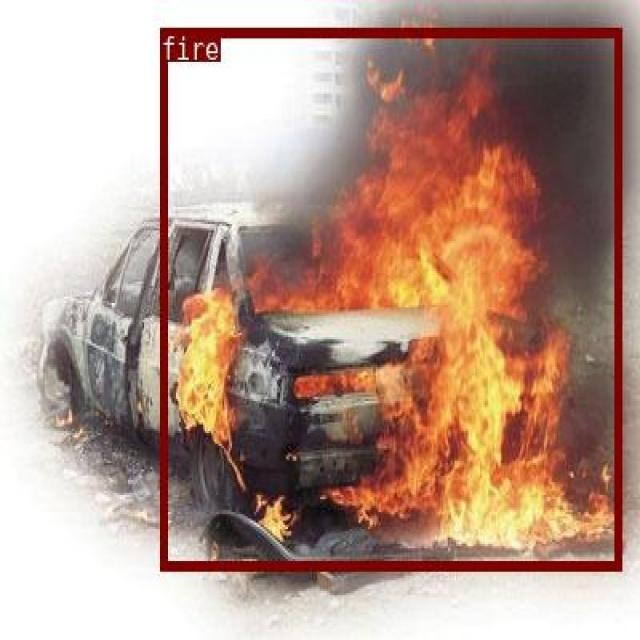fire: (159, 27, 620, 569)
